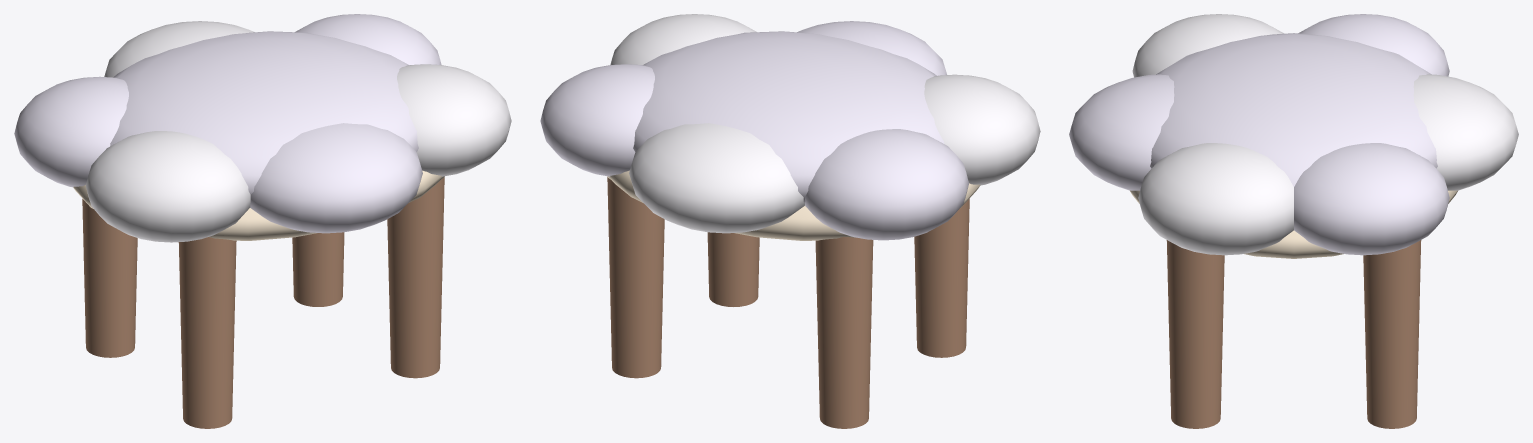
3 views of the same model, side by side, from view 1: azimuth 30°, elevation 25°; view 2: azimuth 150°, elevation 25°; view 3: azimuth 270°, elevation 25° (orthographic).
Parts seen in each view (by area): view 1: WoodLeg (×4), CloudCenter, CloudLobe2, CloudLobe1, CloudLobe3, CloudLobe0, CloudLobe4, CloudLobe5, PipedSeat; view 2: WoodLeg (×4), CloudCenter, CloudLobe5, CloudLobe0, CloudLobe4, CloudLobe1, CloudLobe3, CloudLobe2, PipedSeat; view 3: CloudCenter, WoodLeg (×2), CloudLobe3, CloudLobe4, CloudLobe2, CloudLobe5, CloudLobe1, CloudLobe0, PipedSeat.
Part boxes in pixels (<box>): WoodLeg (×4): <box>82,177,444,428</box>; CloudCenter: <box>110,31,418,194</box>; CloudLobe2: <box>250,123,422,233</box>; CloudLobe1: <box>86,131,250,242</box>; CloudLobe3: <box>397,64,511,176</box>; CloudLobe0: <box>14,76,128,187</box>; CloudLobe4: <box>295,14,441,64</box>; CloudLobe5: <box>104,21,254,77</box>; PipedSeat: <box>73,170,444,240</box>; WoodLeg (×4): <box>607,177,969,428</box>; CloudCenter: <box>633,31,944,202</box>; CloudLobe5: <box>629,123,804,233</box>; CloudLobe0: <box>805,129,968,240</box>; CloudLobe4: <box>540,64,654,176</box>; CloudLobe1: <box>924,74,1040,185</box>; CloudLobe3: <box>610,14,756,64</box>; CloudLobe2: <box>797,21,946,75</box>; PipedSeat: <box>607,170,980,240</box>; CloudCenter: <box>1150,33,1437,186</box>; WoodLeg (×2): <box>1166,240,1421,428</box>; CloudLobe3: <box>1138,143,1293,255</box>; CloudLobe4: <box>1294,143,1449,255</box>; CloudLobe2: <box>1069,74,1174,190</box>; CloudLobe5: <box>1413,74,1518,190</box>; CloudLobe1: <box>1132,14,1283,77</box>; CloudLobe0: <box>1298,14,1449,76</box>; PipedSeat: <box>1130,190,1457,258</box>.
Size of the model in its own units: 0.82 by 0.56 by 0.78.
